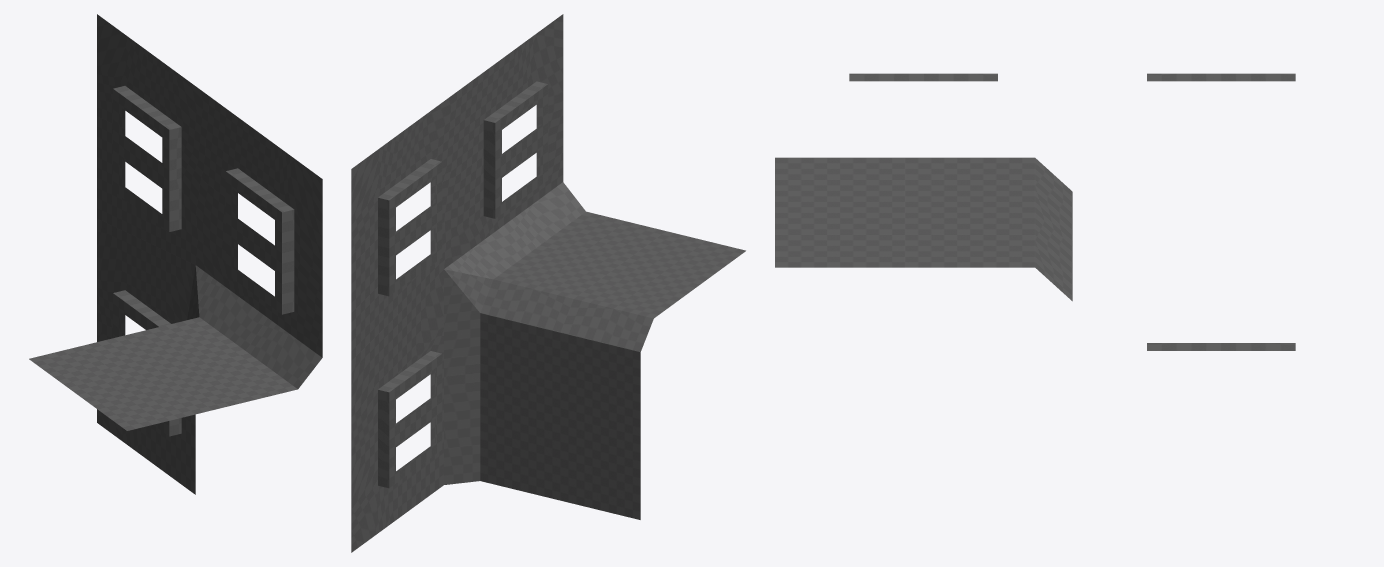
The picture shows the model from 3 angles, left to right: view 1: azimuth 30°, elevation 25°; view 2: azimuth 150°, elevation 25°; view 3: azimuth 270°, elevation 25°; orthographic projection. The views are drawn at different scales.
Parts seen in each view (by area): view 1: 3; view 2: 3; view 3: 3.
Boxes of the visible parts, bbox=[...] form: 3: bbox=[29, 14, 322, 494]; 3: bbox=[351, 14, 745, 552]; 3: bbox=[775, 73, 1295, 350].
Bounding box in the file's own units: 2 × 4 × 4.
Materials: 2 (2 with a texture image).
